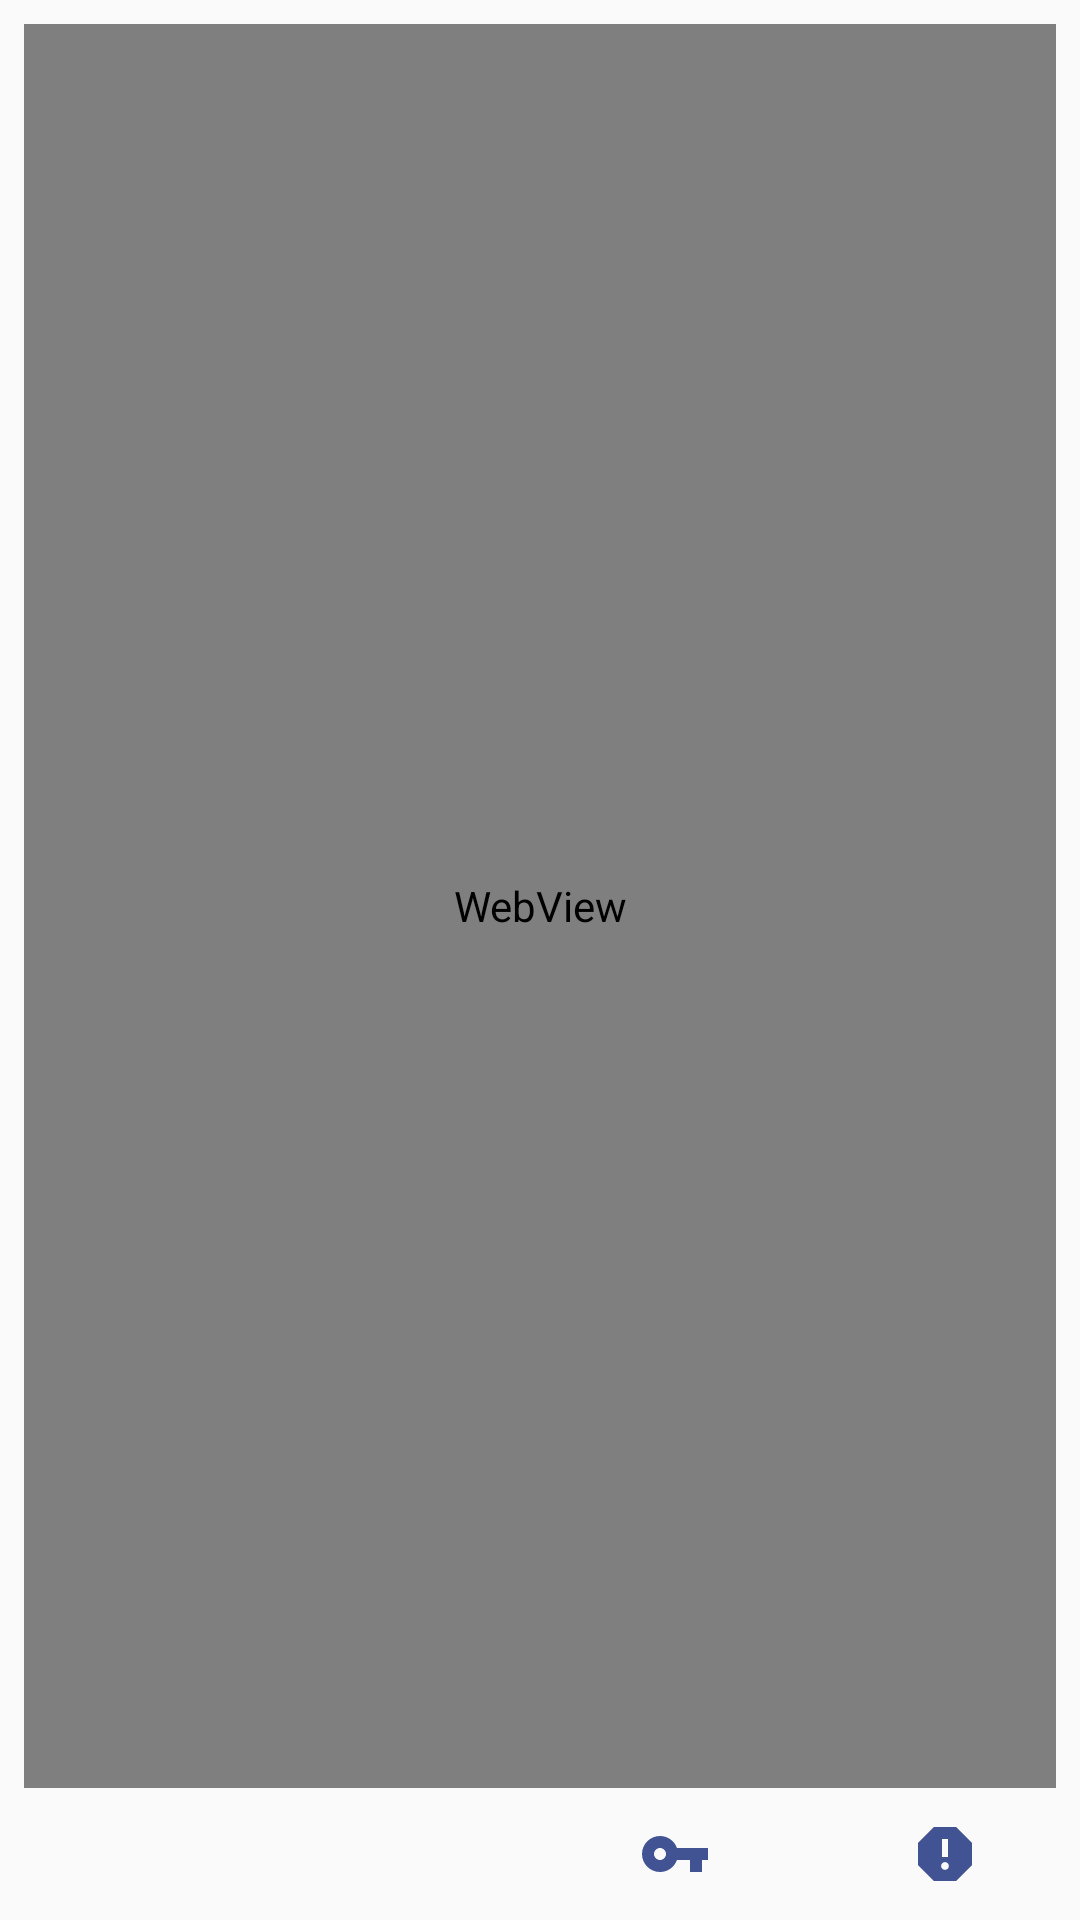

Named icons in this screenshot (1080px x 1920px) and their bounding boxes, bbox=(x1, y1, x2, y2):
password: bbox=(642, 1836, 708, 1872)
report: bbox=(918, 1827, 972, 1881)
